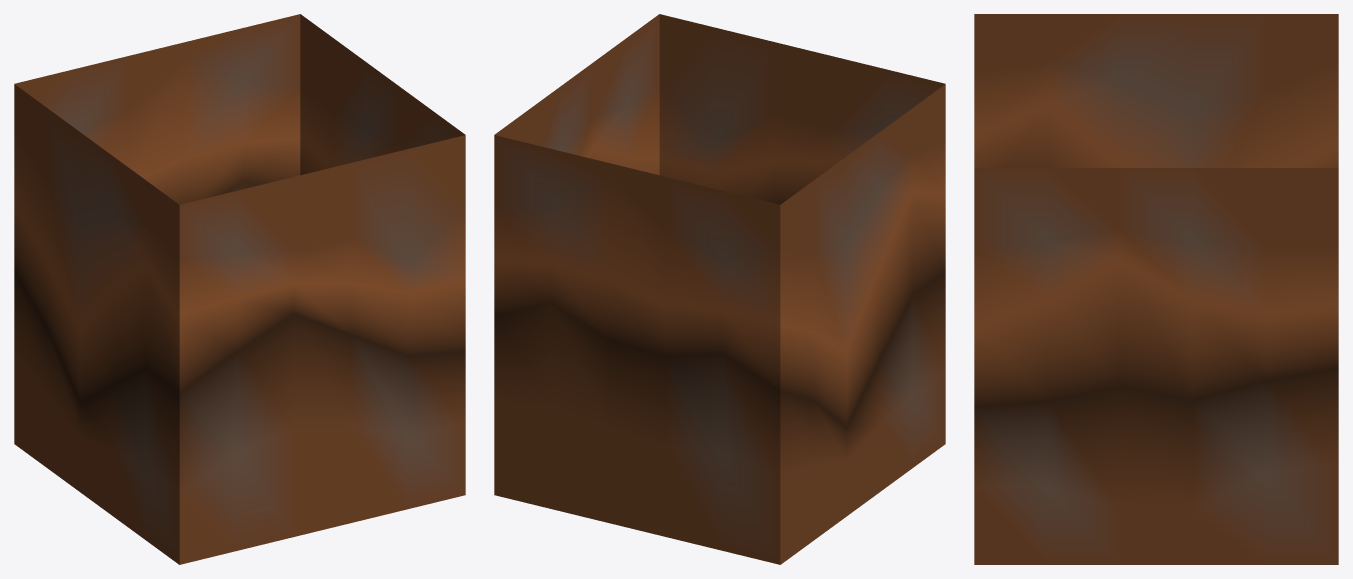
The model's file is DirtBlock2_1.0.fbx.
The picture shows the model from 3 angles, left to right: view 1: azimuth 30°, elevation 25°; view 2: azimuth 150°, elevation 25°; view 3: azimuth 270°, elevation 25°; orthographic projection. The views are drawn at different scales.
Parts seen in each view (by area): view 1: DirtBlock1; view 2: DirtBlock1; view 3: DirtBlock1.
Boxes of the visible parts, x1,y1,x2,y2 form: DirtBlock1: (14, 14, 465, 564); DirtBlock1: (494, 14, 945, 564); DirtBlock1: (974, 14, 1338, 564).
Bounding box in the file's own units: 200 × 240 × 200.
